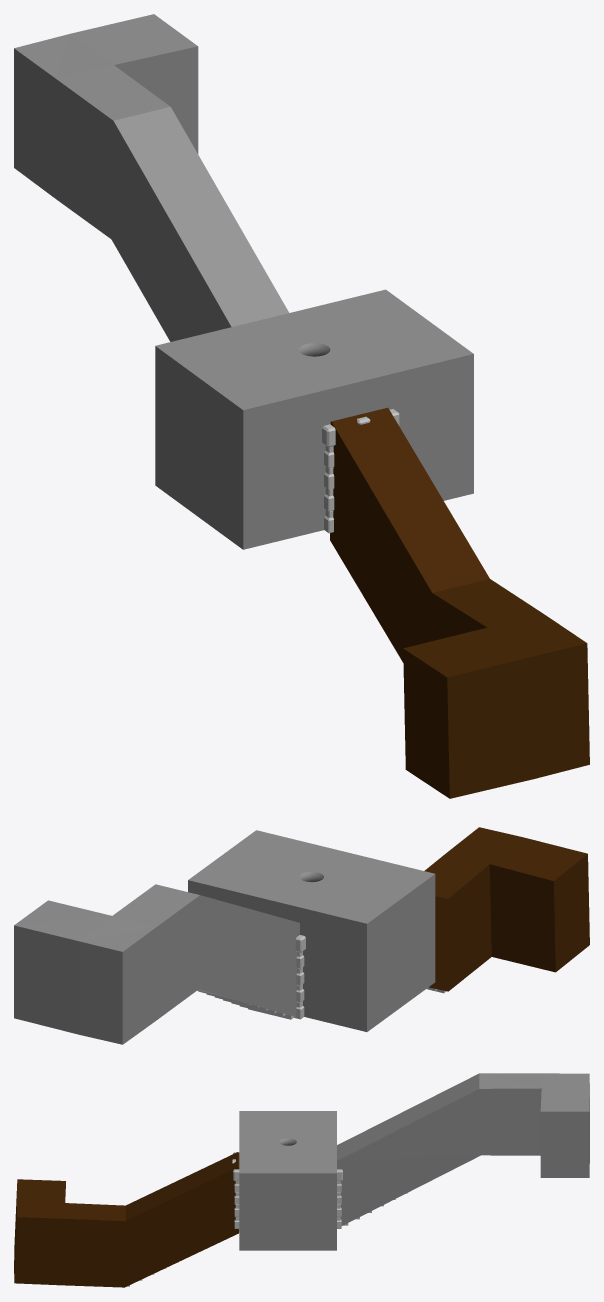
File: TemplioNoBool.dae
The picture shows the model from 3 angles, top to bottom: view 1: azimuth 30°, elevation 25°; view 2: azimuth 150°, elevation 25°; view 3: azimuth 270°, elevation 25°; orthographic projection. The views are drawn at different scales.
Visible parts, largest first — view 1: Templio.001, CorridoioScalini.001, CorridoioScalini; view 2: CorridoioScalini, Templio.001, CorridoioScalini.001, Ingresso.001, Scale; view 3: CorridoioScalini, CorridoioScalini.001, Templio.001.
Boxes of the visible parts, <box> form: Templio.001: <box>155,289,473,549</box>; CorridoioScalini.001: <box>330,408,589,798</box>; CorridoioScalini: <box>14,14,288,341</box>; CorridoioScalini: <box>14,884,299,1044</box>; Templio.001: <box>188,830,435,1031</box>; CorridoioScalini.001: <box>424,827,589,991</box>; Ingresso.001: <box>294,951,304,1019</box>; Scale: <box>198,991,294,1019</box>; CorridoioScalini: <box>337,1073,589,1225</box>; CorridoioScalini.001: <box>14,1152,239,1287</box>; Templio.001: <box>239,1111,336,1250</box>.
Size of the model in its own units: 6.23 by 24.3 by 9.26.
